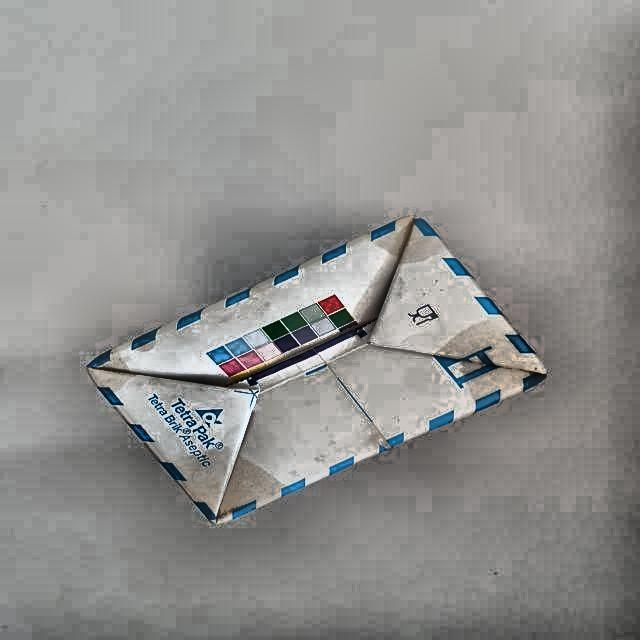cardboard: (85, 216, 548, 526)
